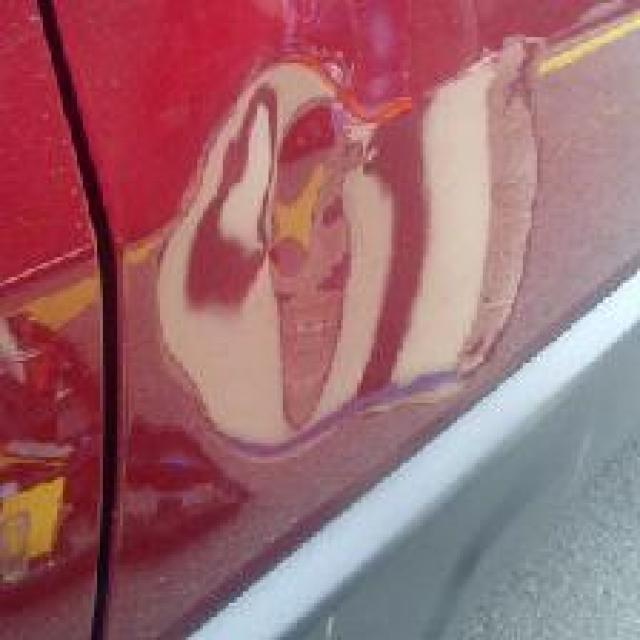damaged: (163, 37, 546, 454)
